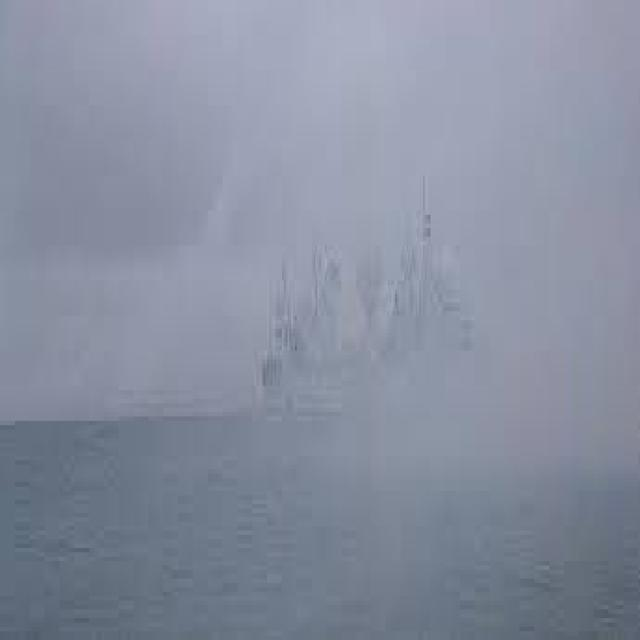navalvessels: (248, 215, 499, 440)
